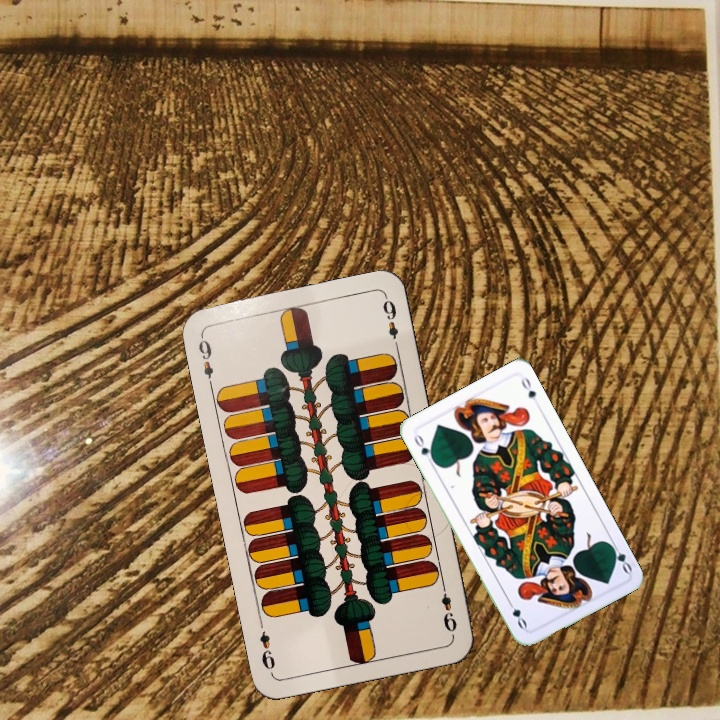E9: (437, 578, 459, 637), (194, 331, 216, 390)
GO: (605, 537, 635, 576), (410, 431, 438, 468)
